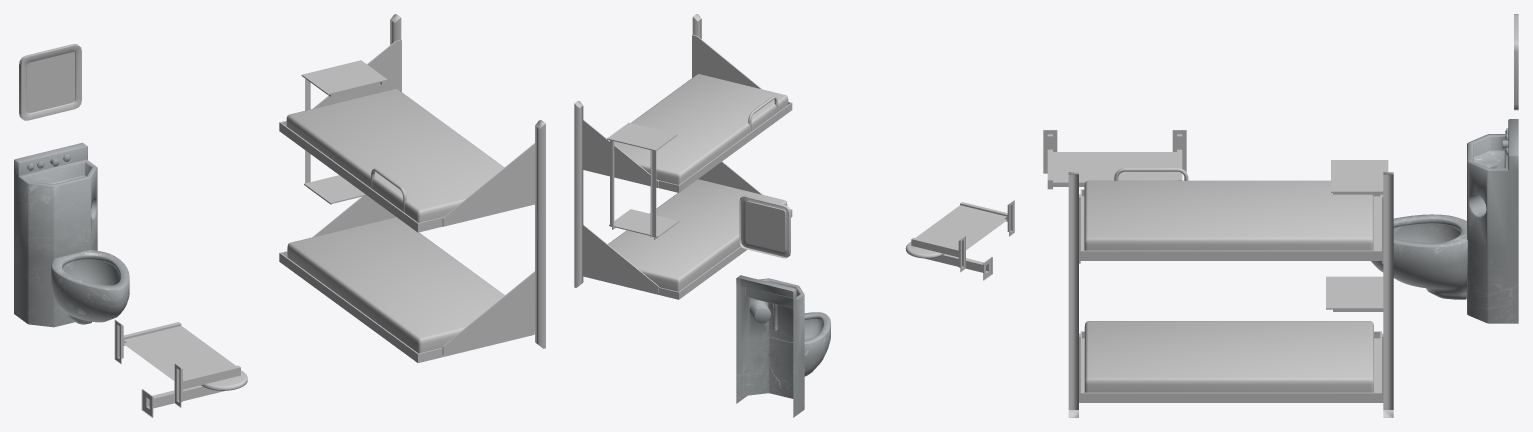
File: SM_Cell_03_Preset.fbx
The picture shows the model from 3 angles, left to right: view 1: azimuth 30°, elevation 25°; view 2: azimuth 150°, elevation 25°; view 3: azimuth 270°, elevation 25°; orthographic projection. The views are drawn at different scales.
Visible parts, largest first — view 1: SM_Cell_03_Preset_LOD0; view 2: SM_Cell_03_Preset_LOD0; view 3: SM_Cell_03_Preset_LOD0.
Part boxes in pixels (box(x1,y1,x2,y2)): SM_Cell_03_Preset_LOD0: box(14, 14, 545, 417); SM_Cell_03_Preset_LOD0: box(574, 14, 1014, 417); SM_Cell_03_Preset_LOD0: box(1043, 14, 1518, 417).
Bounding box in the file's own units: 311 × 311 × 206.
